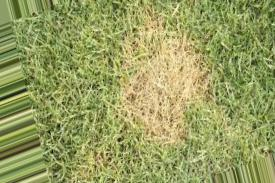patch: (133, 25, 201, 138)
